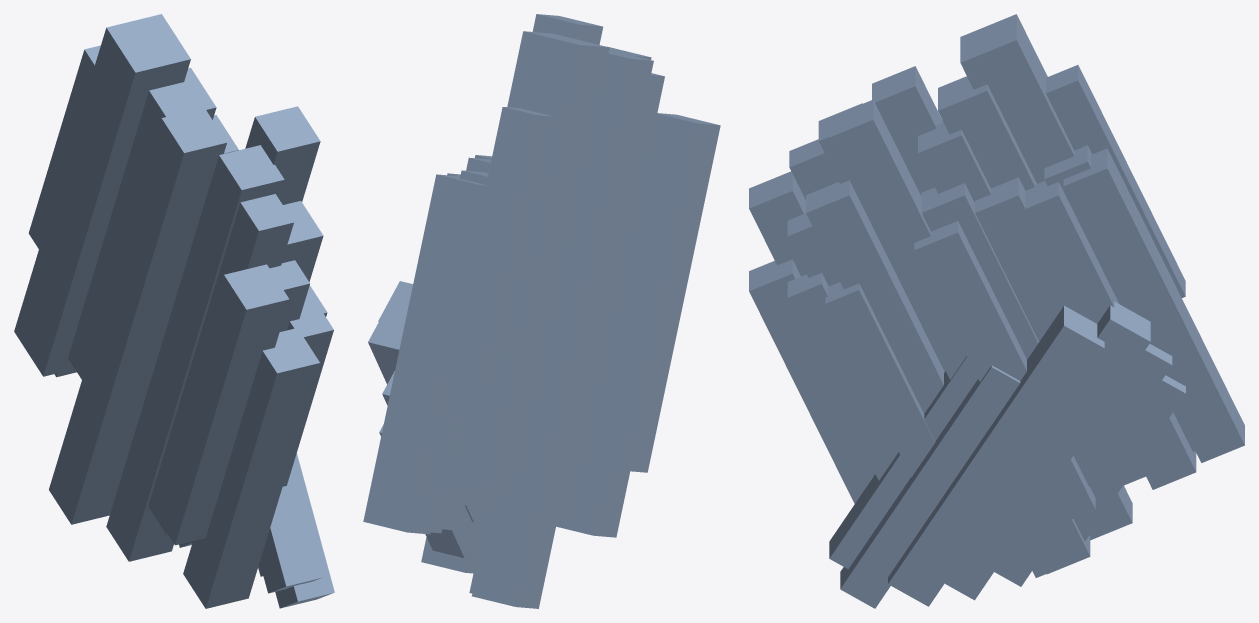
Rendered from wall_crystal_rectangle_01.fbx.
3 views of the same model, side by side, from view 1: azimuth 30°, elevation 25°; view 2: azimuth 150°, elevation 25°; view 3: azimuth 270°, elevation 25° (orthographic). The views are drawn at different scales.
Parts seen in each view (by area): view 1: wall_crystal_rectangle_01; view 2: wall_crystal_rectangle_01; view 3: wall_crystal_rectangle_01.
Part boxes in pixels (left/top/right/bottom): wall_crystal_rectangle_01: left=14, top=14, right=334, bottom=608; wall_crystal_rectangle_01: left=363, top=14, right=720, bottom=608; wall_crystal_rectangle_01: left=749, top=14, right=1244, bottom=608.
Bounding box in the file's own units: 0.5024 × 1.75 × 1.48.
